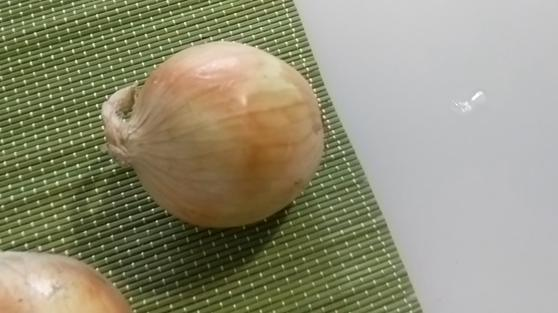onion: (99, 41, 325, 228)
